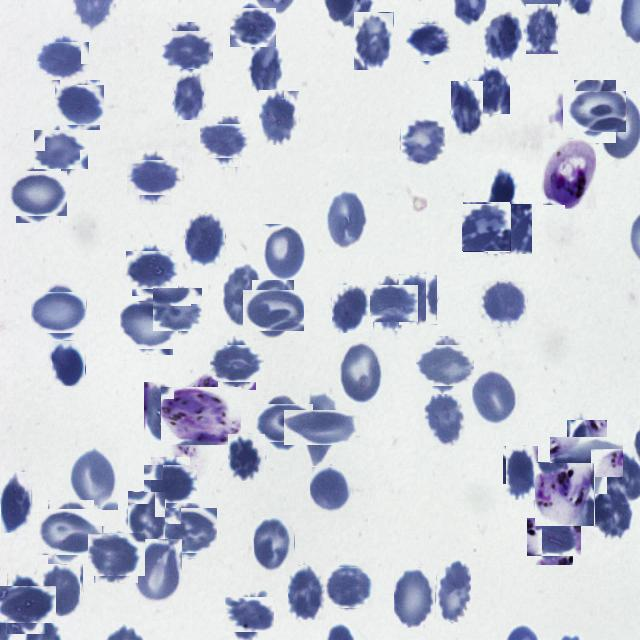red blood cell: (558, 428, 616, 486), (294, 399, 350, 455), (134, 539, 182, 604), (70, 447, 118, 510), (44, 504, 98, 560), (122, 299, 176, 352), (338, 341, 383, 404), (221, 262, 262, 328), (568, 86, 620, 138), (13, 168, 64, 220), (326, 188, 369, 249), (248, 284, 298, 336), (394, 567, 436, 628), (262, 224, 306, 281), (164, 506, 214, 556), (420, 340, 470, 390), (91, 530, 141, 580), (472, 370, 518, 424), (259, 398, 308, 448), (254, 513, 295, 572), (35, 288, 84, 337), (1, 580, 51, 628), (589, 485, 633, 539), (354, 12, 394, 70), (246, 37, 284, 98), (462, 204, 510, 252), (128, 491, 166, 551), (424, 391, 465, 446), (259, 90, 300, 145), (185, 212, 226, 266), (162, 26, 209, 73), (37, 126, 84, 173), (530, 514, 578, 560), (400, 118, 446, 166), (488, 204, 532, 254), (144, 381, 180, 442), (481, 280, 527, 327), (437, 559, 471, 622), (40, 38, 86, 84), (326, 564, 372, 610), (214, 340, 260, 386), (128, 247, 174, 293), (368, 280, 414, 326), (154, 286, 200, 332), (288, 565, 326, 620), (43, 564, 83, 616), (148, 461, 194, 506), (58, 82, 102, 128), (399, 274, 438, 325), (132, 155, 176, 200), (503, 445, 539, 500), (484, 11, 522, 62), (1, 472, 32, 534), (310, 466, 350, 514), (332, 285, 370, 333), (228, 433, 266, 481), (204, 120, 246, 163), (472, 66, 509, 114), (408, 21, 450, 63), (232, 6, 274, 48), (228, 594, 270, 636), (451, 81, 483, 136), (174, 72, 205, 124), (526, 4, 558, 54), (52, 340, 86, 386)
trophozoite: (167, 382, 236, 451), (535, 462, 595, 526), (543, 138, 597, 209)
